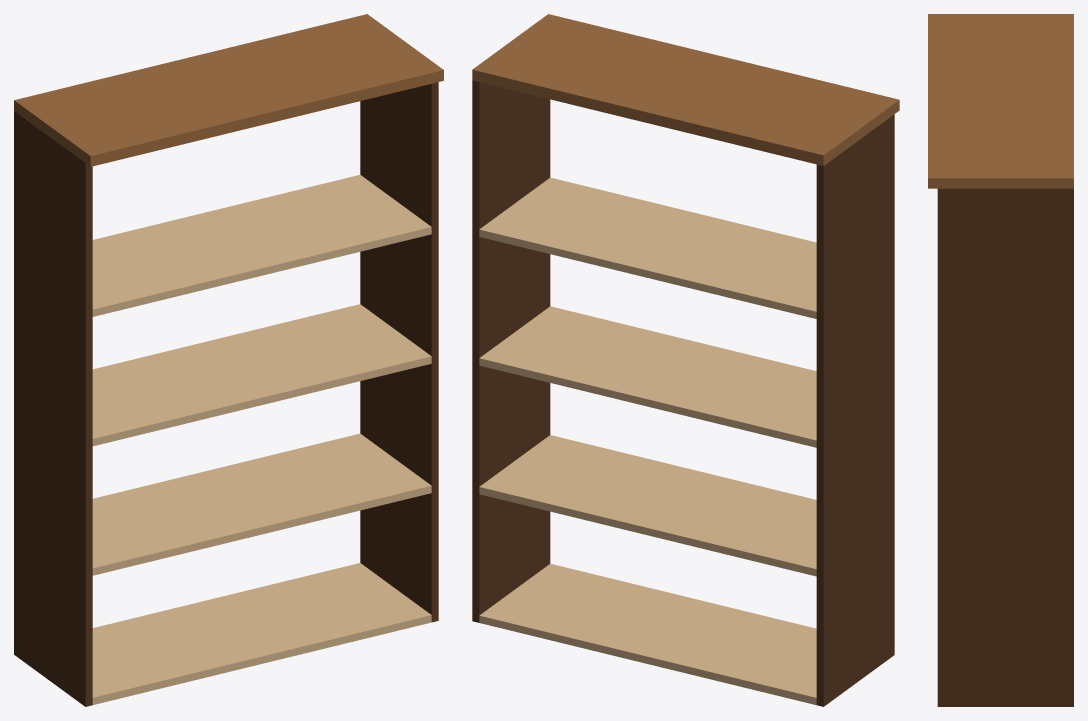
File: shelf-lite.glb
The picture shows the model from 3 angles, left to right: view 1: azimuth 30°, elevation 25°; view 2: azimuth 150°, elevation 25°; view 3: azimuth 270°, elevation 25°; orthographic projection. The views are drawn at different scales.
Parts seen in each view (by area): view 1: material-1-shelf, material-0-body, material-2-top; view 2: material-1-shelf, material-0-body, material-2-top; view 3: material-0-body, material-2-top.
Part boxes in pixels (x1,y1,x2,y2): material-1-shelf: [92, 174, 431, 704]; material-0-body: [14, 82, 438, 706]; material-2-top: [14, 14, 443, 166]; material-1-shelf: [479, 177, 816, 705]; material-0-body: [472, 80, 894, 706]; material-2-top: [472, 14, 899, 165]; material-0-body: [937, 188, 1073, 706]; material-2-top: [928, 14, 1073, 188].
Bounding box in the file's own units: 1.2 × 1.8 × 0.45.
